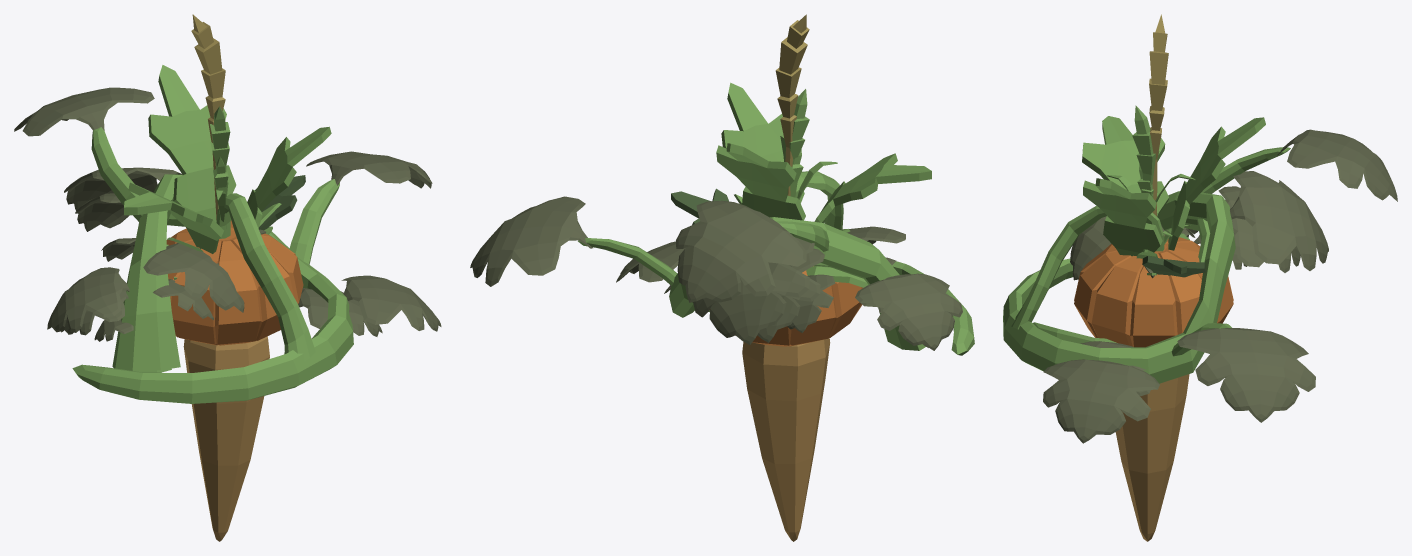
Rendered from crops.glb.
The picture shows the model from 3 angles, left to right: view 1: azimuth 30°, elevation 25°; view 2: azimuth 150°, elevation 25°; view 3: azimuth 270°, elevation 25°; orthographic projection. The views are drawn at different scales.
Visible parts, largest first — view 1: Pumpkin_4, Carrot_4, Pumpkin_3, Wheat_4, Pumpkin_2, Wheat_3; view 2: Pumpkin_4, Carrot_4, Wheat_4, Pumpkin_3, Pumpkin_2, Wheat_3; view 3: Pumpkin_4, Carrot_4, Pumpkin_3, Wheat_4, Wheat_3.
Part boxes in pixels (<box>): Pumpkin_4: <box>14,87,441,403</box>; Carrot_4: <box>124,65,331,541</box>; Pumpkin_3: <box>61,193,382,372</box>; Wheat_4: <box>191,14,225,219</box>; Pumpkin_2: <box>94,238,213,341</box>; Wheat_3: <box>208,106,230,228</box>; Pumpkin_4: <box>470,171,974,355</box>; Carrot_4: <box>671,82,931,541</box>; Wheat_4: <box>775,14,809,196</box>; Pumpkin_3: <box>664,226,952,347</box>; Pumpkin_2: <box>787,257,899,332</box>; Wheat_3: <box>780,89,837,199</box>; Pumpkin_4: <box>1003,129,1397,443</box>; Carrot_4: <box>1082,116,1265,541</box>; Pumpkin_3: <box>1033,186,1300,396</box>; Wheat_4: <box>1149,14,1168,216</box>; Wheat_3: <box>1106,105,1195,244</box>.
Size of the model in its own units: 1.29 by 1.56 by 1.08.
